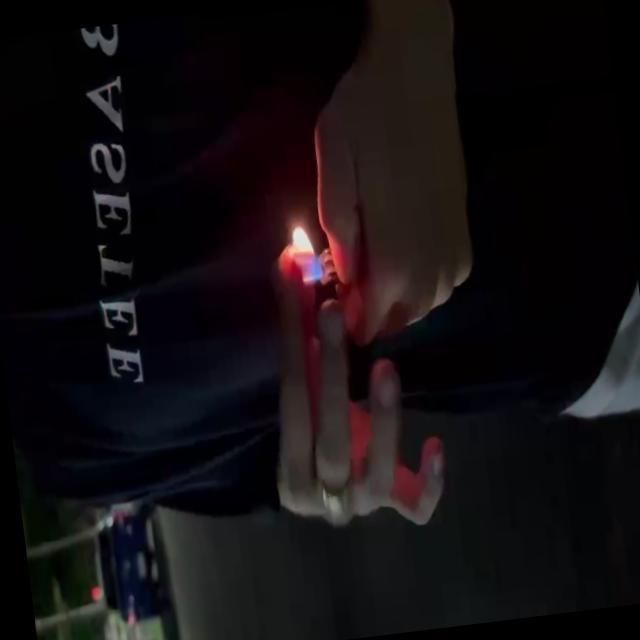Fire: (285, 222, 331, 291)
